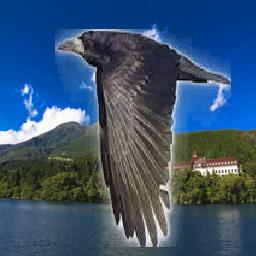Crow: (55, 29, 231, 247)
